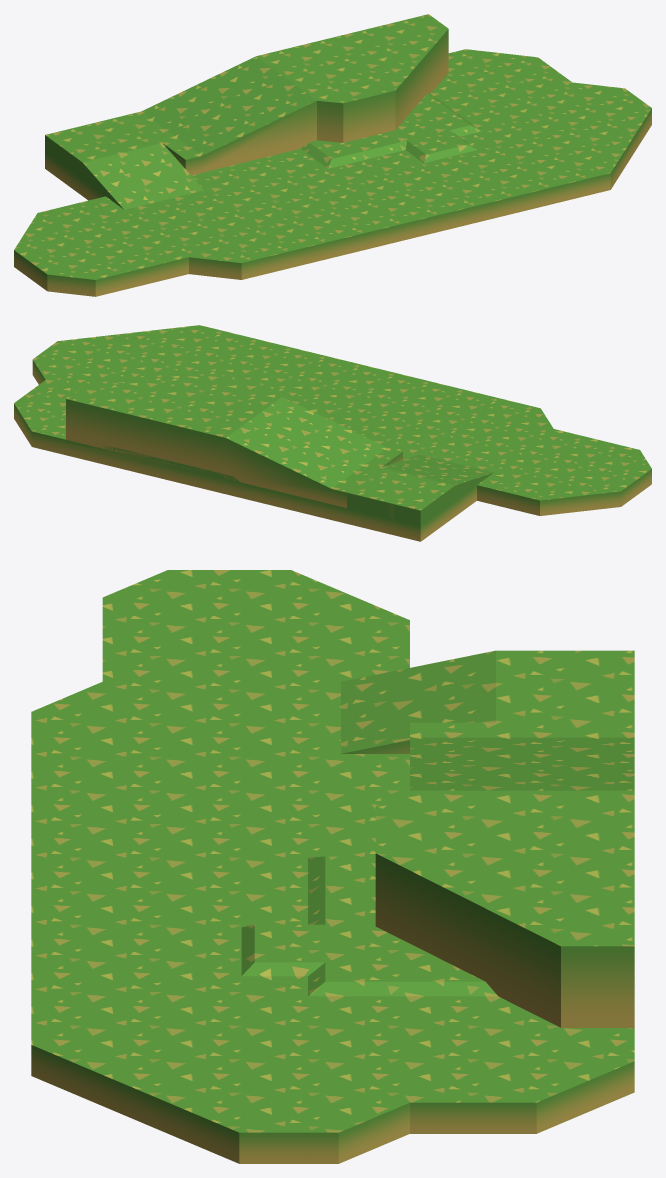
File: SOS_island_prototype_02.fbx
3 views of the same model, one above another, from view 1: azimuth 30°, elevation 25°; view 2: azimuth 150°, elevation 25°; view 3: azimuth 270°, elevation 25° (orthographic). The views are drawn at different scales.
Parts seen in each view (by area): view 1: SOS_island_prototype_02; view 2: SOS_island_prototype_02; view 3: SOS_island_prototype_02.
Boxes of the visible parts, box(x1,y1,x2,y2) form: SOS_island_prototype_02: box(14, 14, 651, 296); SOS_island_prototype_02: box(14, 325, 651, 541); SOS_island_prototype_02: box(31, 570, 634, 1163).
Size of the model in its own units: 7736 by 722 by 3505.
